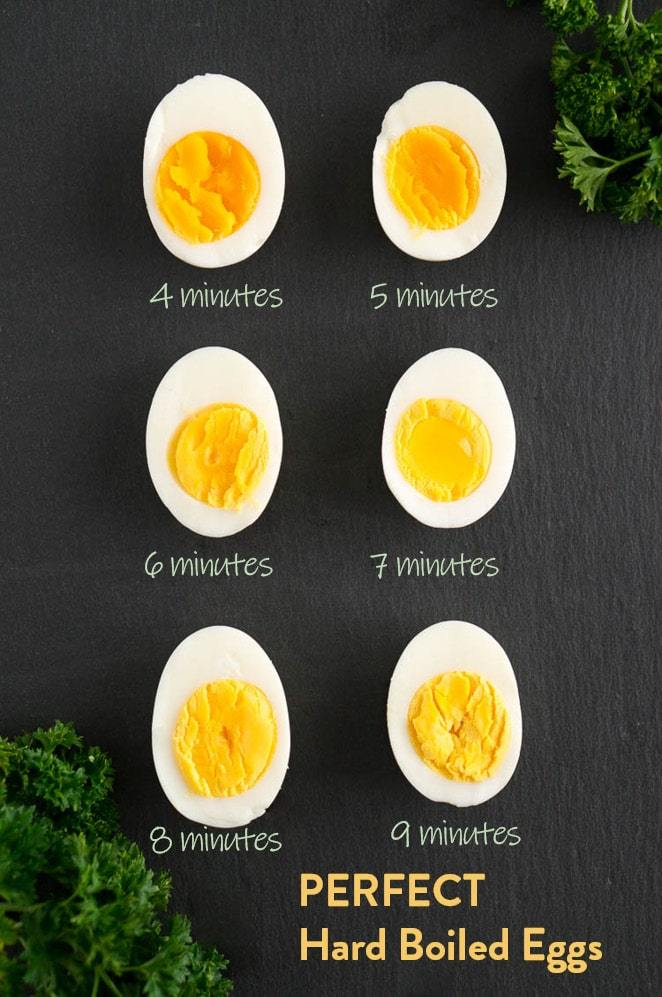egg: (119, 608, 328, 830), (124, 62, 318, 284), (369, 336, 564, 554), (128, 336, 310, 563), (354, 59, 536, 280), (363, 612, 558, 815)
